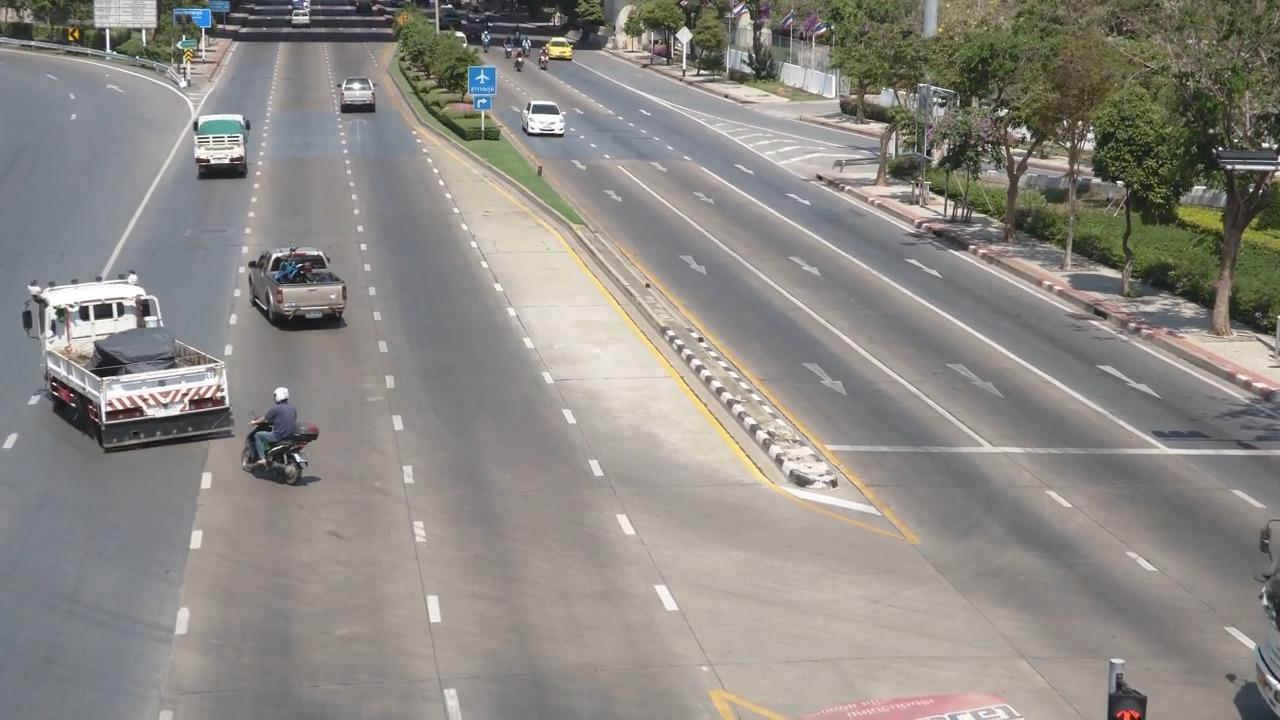CAR: (23, 260, 241, 447), (236, 242, 368, 349), (180, 97, 266, 196), (324, 65, 393, 139), (516, 87, 573, 148), (281, 3, 326, 46)
MOTOR: (236, 375, 341, 501)
